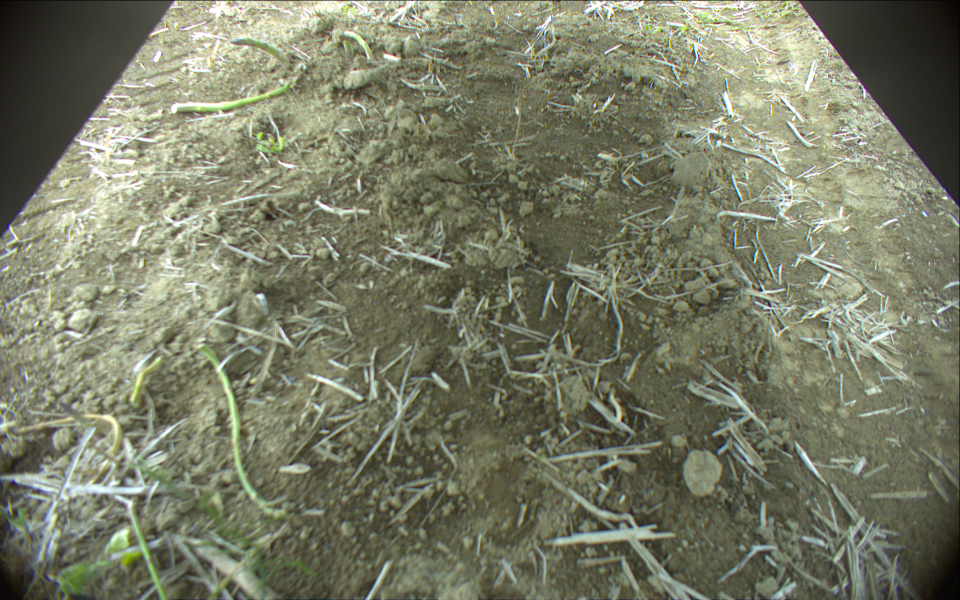aspa: (194, 342, 288, 516), (128, 499, 174, 600), (16, 417, 123, 456), (170, 81, 291, 113), (231, 34, 294, 69), (128, 355, 163, 406), (342, 29, 378, 61)
